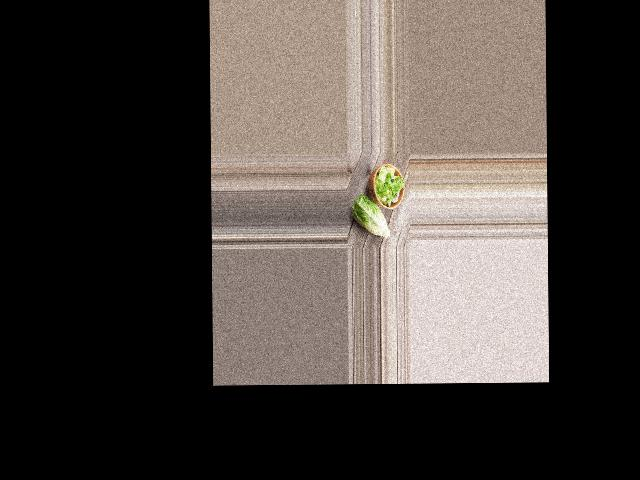lettuce: (350, 194, 390, 237)
